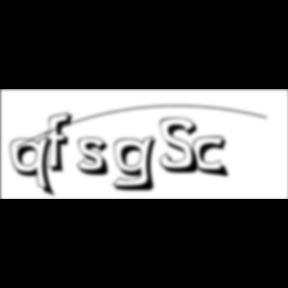S: (160, 117, 206, 176)
c: (194, 136, 234, 180)
f: (46, 111, 80, 175)
g: (112, 134, 164, 194)
q: (10, 135, 60, 200)
s: (78, 137, 116, 179)
